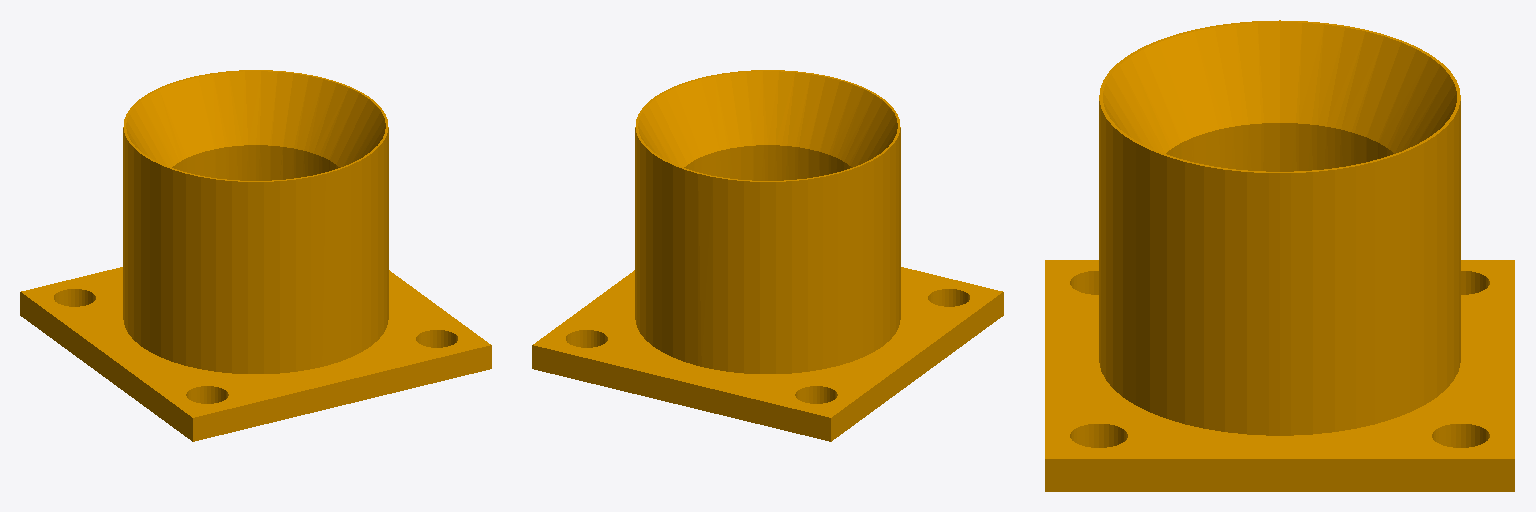
robot.urdf — hole_model:
<?xml version="1.0" ?>

<robot name="hole_model">
  <link name="hole" concave="yes">
    <inertial>
      <mass value="0.390" />
      <origin xyz="0 0 0.0575" />
      <inertia  ixx="0.00058" ixy="0.0"  ixz="0.0"  iyy="0.00058"  iyz="0.0"  izz="0.00019" />
    </inertial>
    <visual>
      <origin xyz="0 0 0" rpy="0 0 0" />
      <geometry>
        <mesh filename="package://battery_cell_description/meshes/Hole_60.STL"/>
      </geometry>
    </visual>
    <collision concave="yes">
    <!-- <collision> -->
      <origin xyz="0 0 0" rpy="0 0 0" />
      <geometry>
        <mesh filename="package://battery_cell_description/meshes/Hole_60.STL"/>
      </geometry>
    </collision>
  </link>
</robot>

--- Facts derived from the render (not from the file) ---
3 views of the same robot in one strip: view 1: azimuth 30°, elevation 25°; view 2: azimuth 150°, elevation 25°; view 3: azimuth 270°, elevation 25° (orthographic).
Model hole_model with 1 links and 0 joints (none), rooted at hole, posed all joints at 0.
Visible links, largest first — view 1: hole; view 2: hole; view 3: hole.
Boxes of the visible links, x1,y1,x2,y2 form: hole: [20, 70, 491, 441]; hole: [532, 70, 1003, 441]; hole: [1045, 20, 1514, 491].
Size in the robot's own frame: 0.13 by 0.13 by 0.09 metres.
1 mesh visuals loaded from 1 distinct referenced files (1 binary STL).